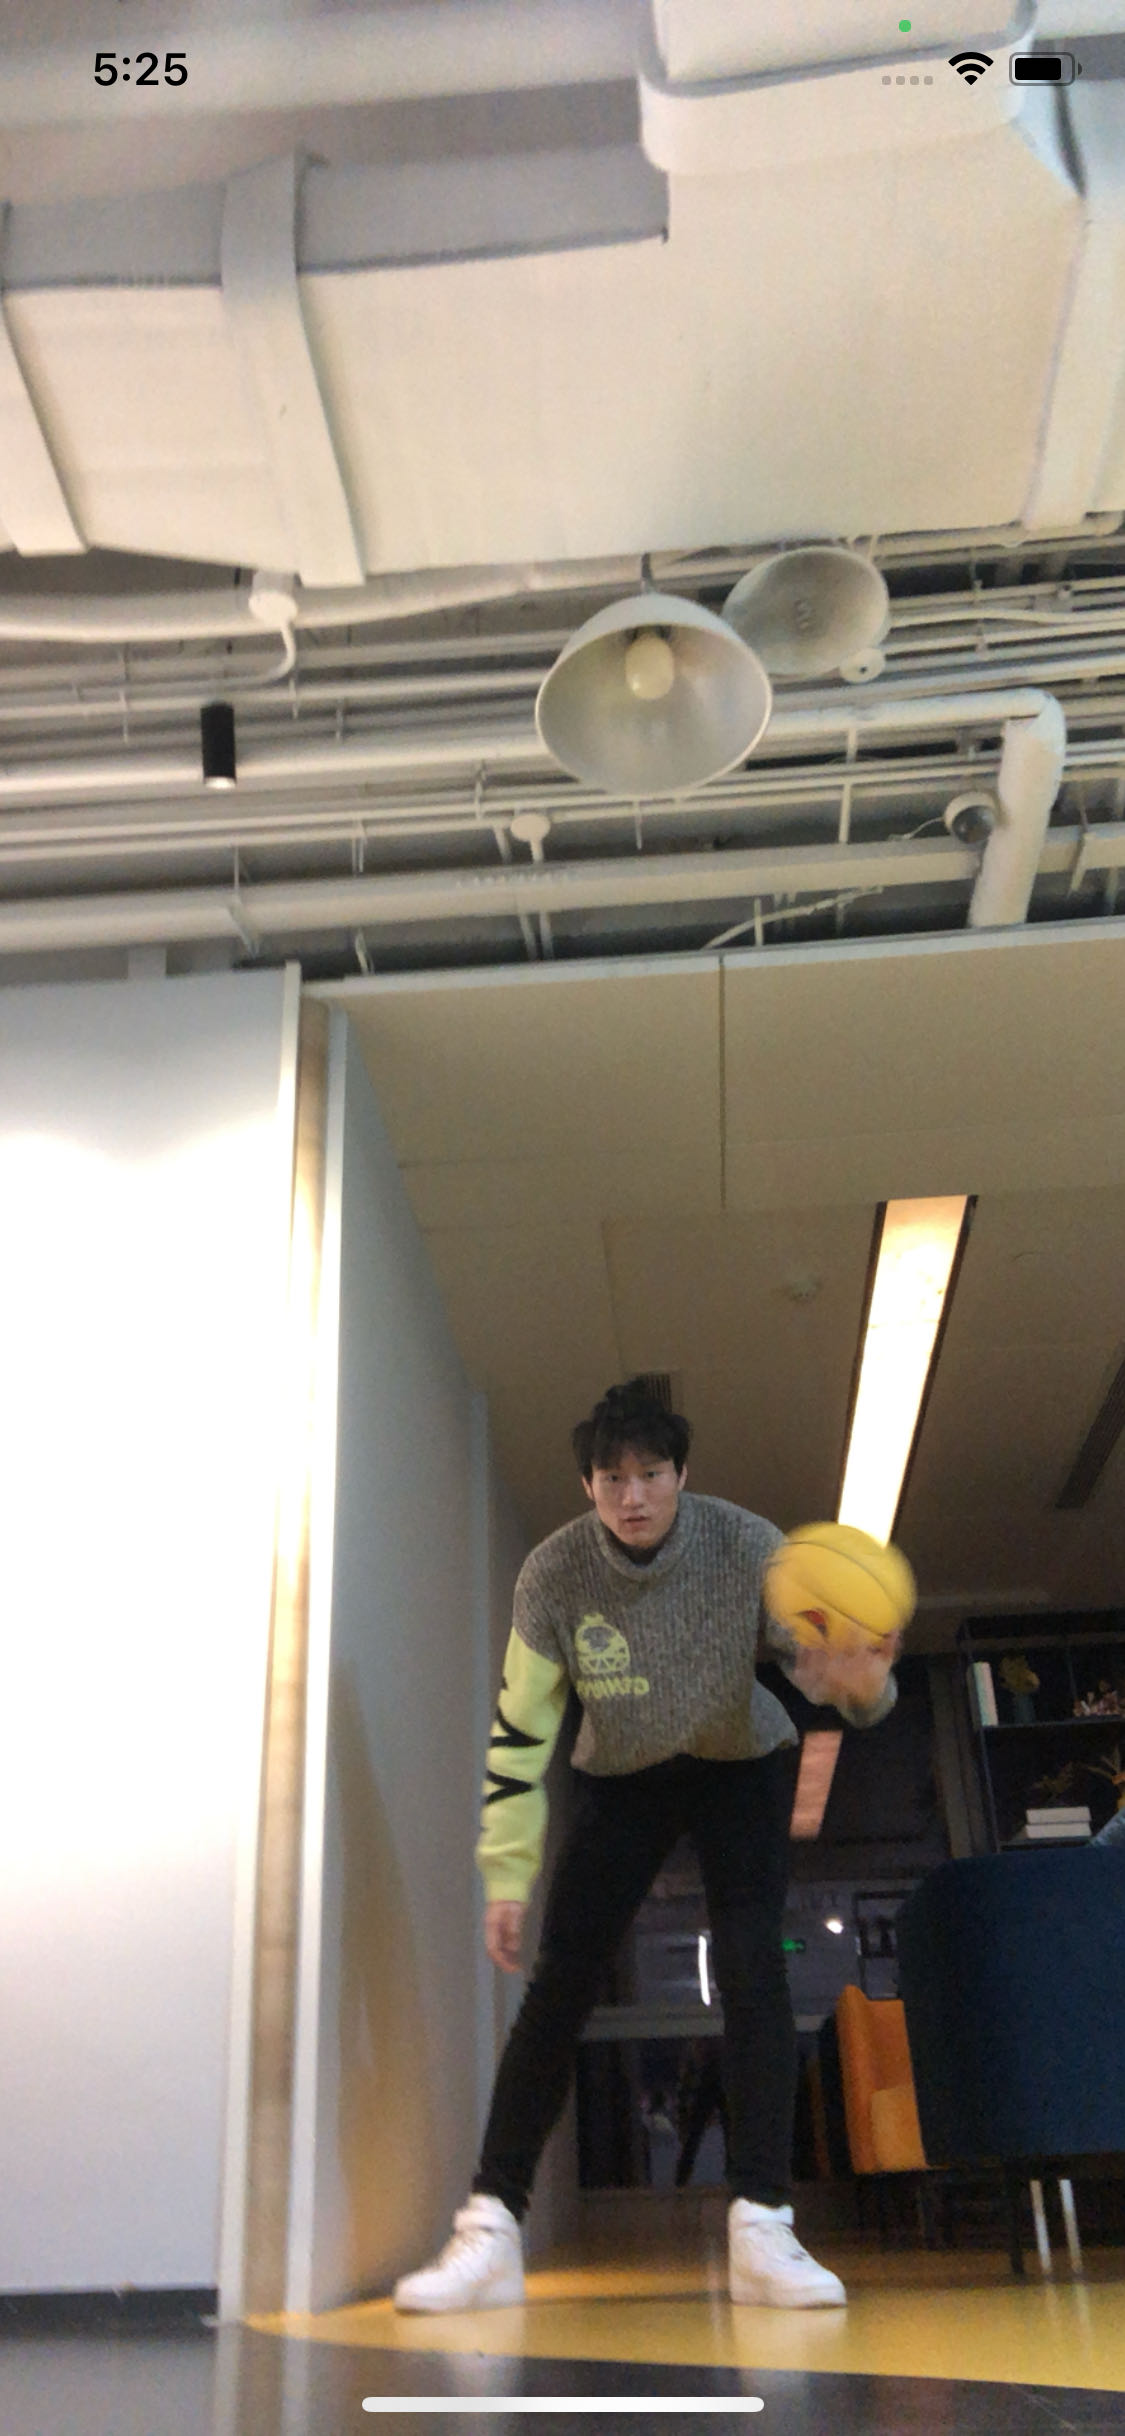ball: (761, 1516, 917, 1678)
